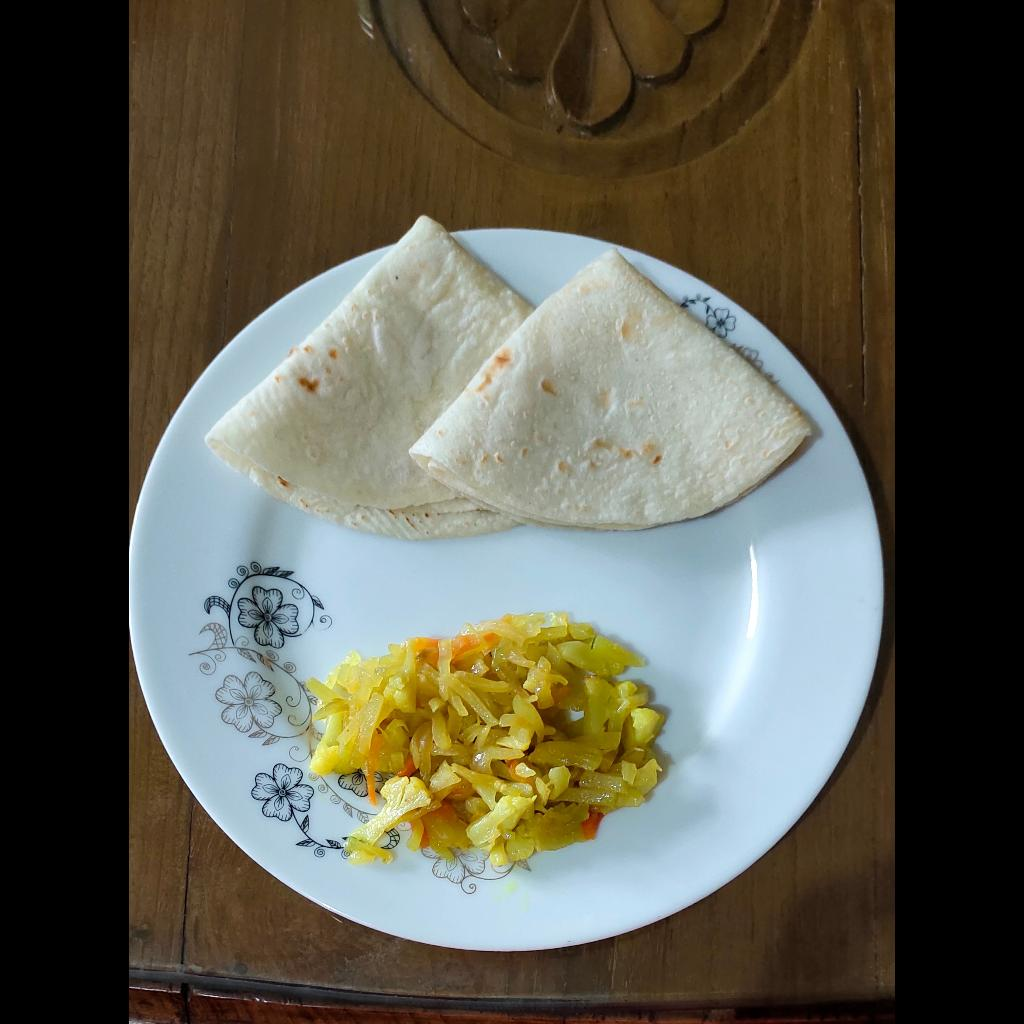ruti: (209, 208, 810, 536)
vaji: (299, 615, 661, 869)
